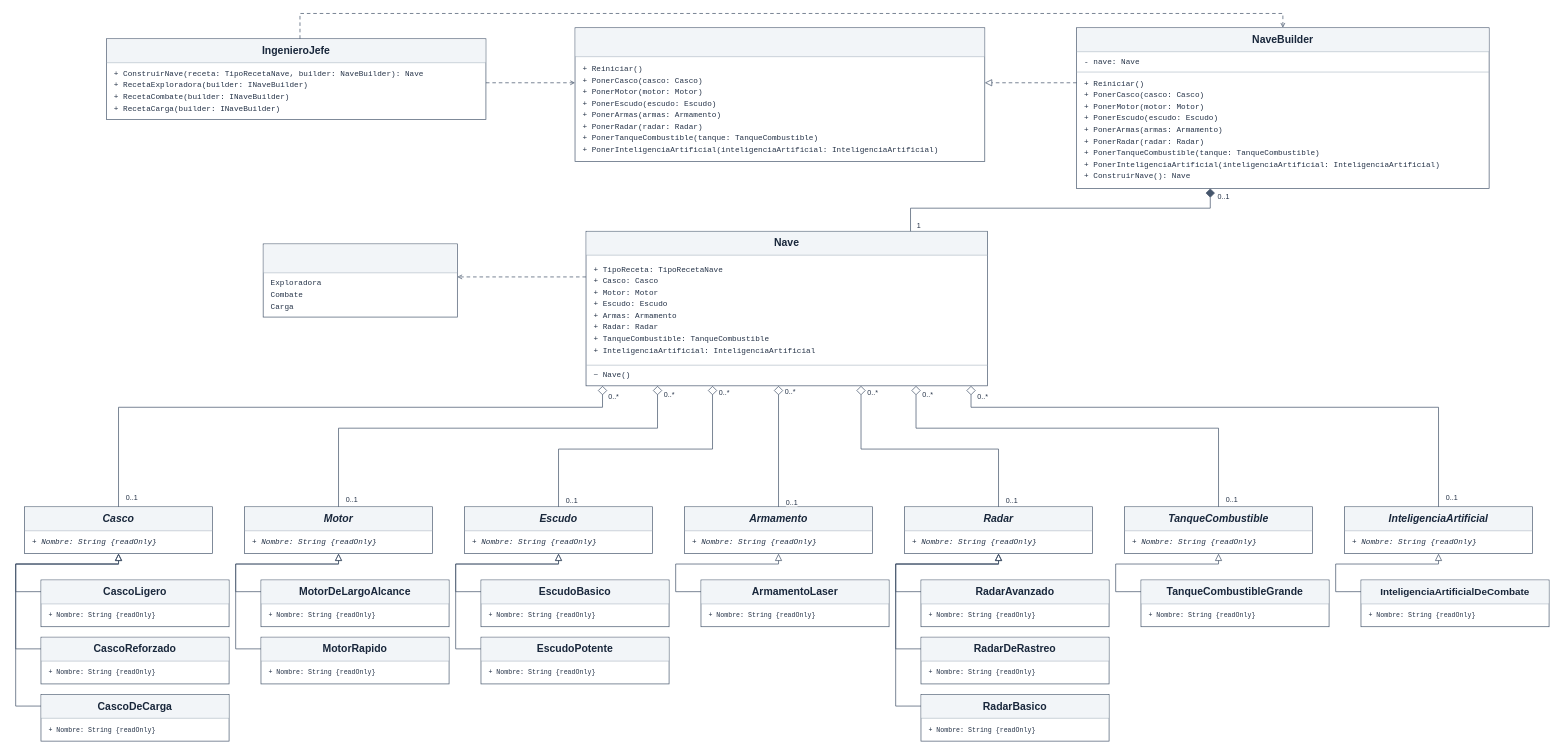
Image size: 1559x751. Some labels were removed from this diagram. The box of each missing label's shape, as (x1, y1, x2, y2) in pixels:
«enumeration» TipoRecetaNave: (263, 244, 457, 272)
«interface» INaveBuilder: (575, 28, 984, 56)
